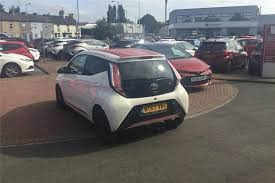licence-plate: (142, 103, 169, 112), (189, 75, 206, 82)
